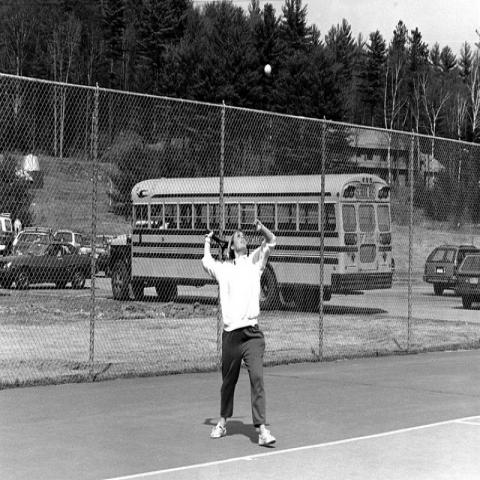bus: (108, 172, 394, 308)
car: (2, 237, 92, 290), (422, 243, 480, 296), (107, 232, 133, 309), (454, 254, 480, 307), (13, 228, 55, 255), (20, 153, 44, 189), (80, 247, 109, 274), (53, 230, 84, 246), (94, 234, 115, 251), (0, 217, 12, 245)
